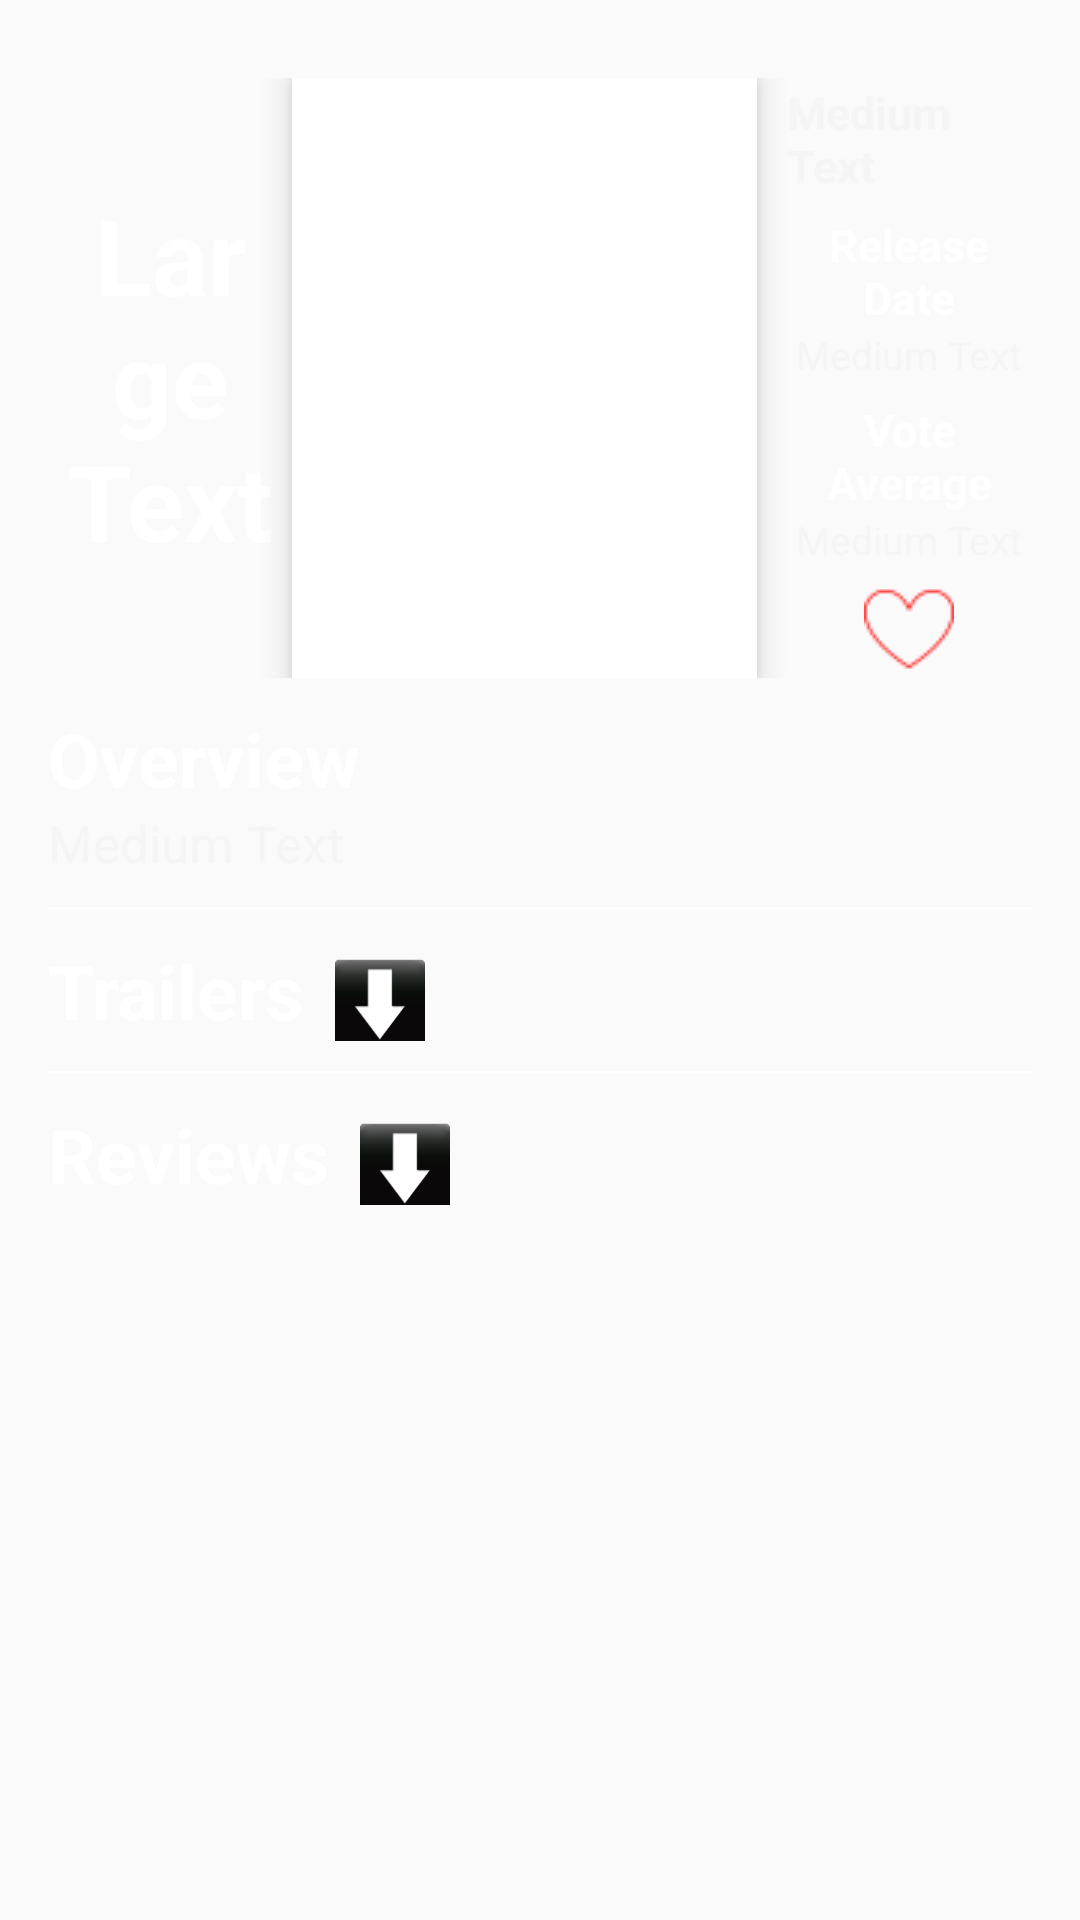

Screen size 1080x1920. Icon name, then its center in pixels as point (x, y):
btnshow: point (380, 1000), point (405, 1164)
favoritecheck: point (909, 629)
